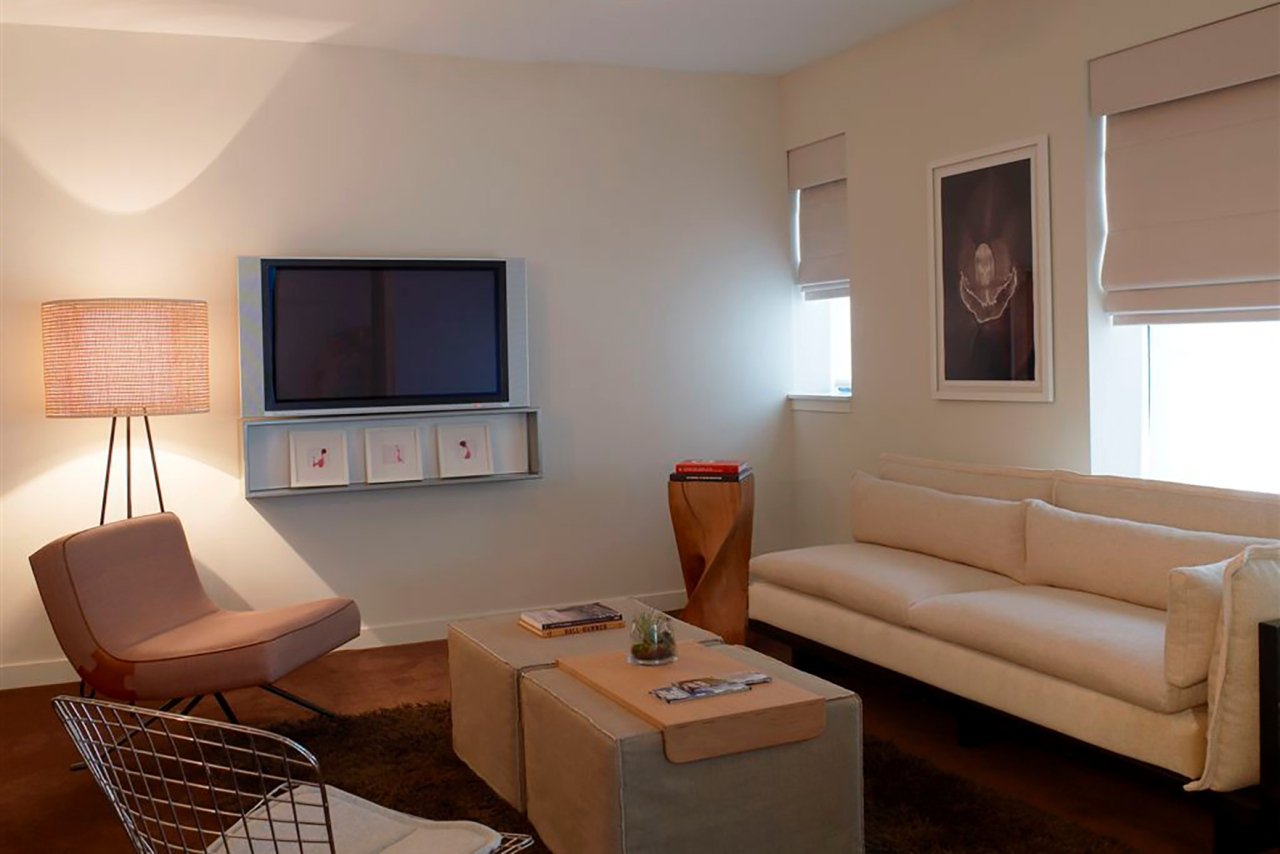chair: (748, 448, 1280, 774), (44, 695, 531, 854), (31, 508, 363, 740)
